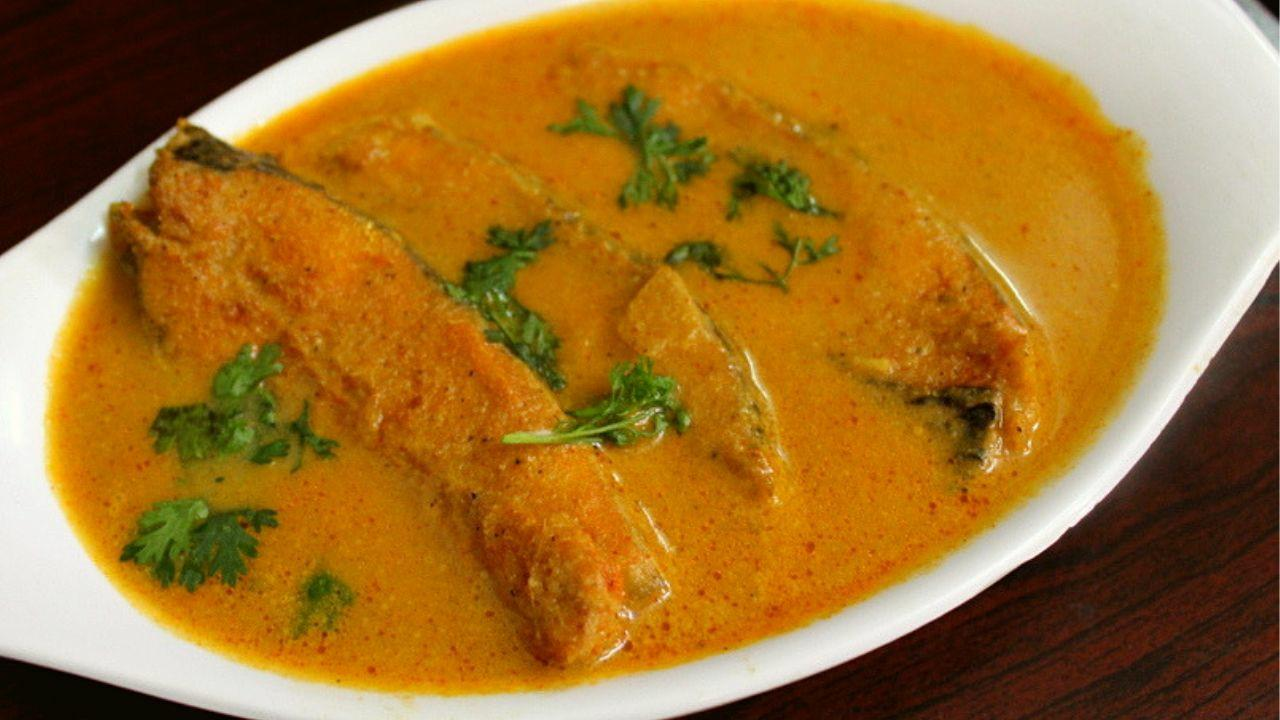FishCurry: (42, 0, 1164, 694)
